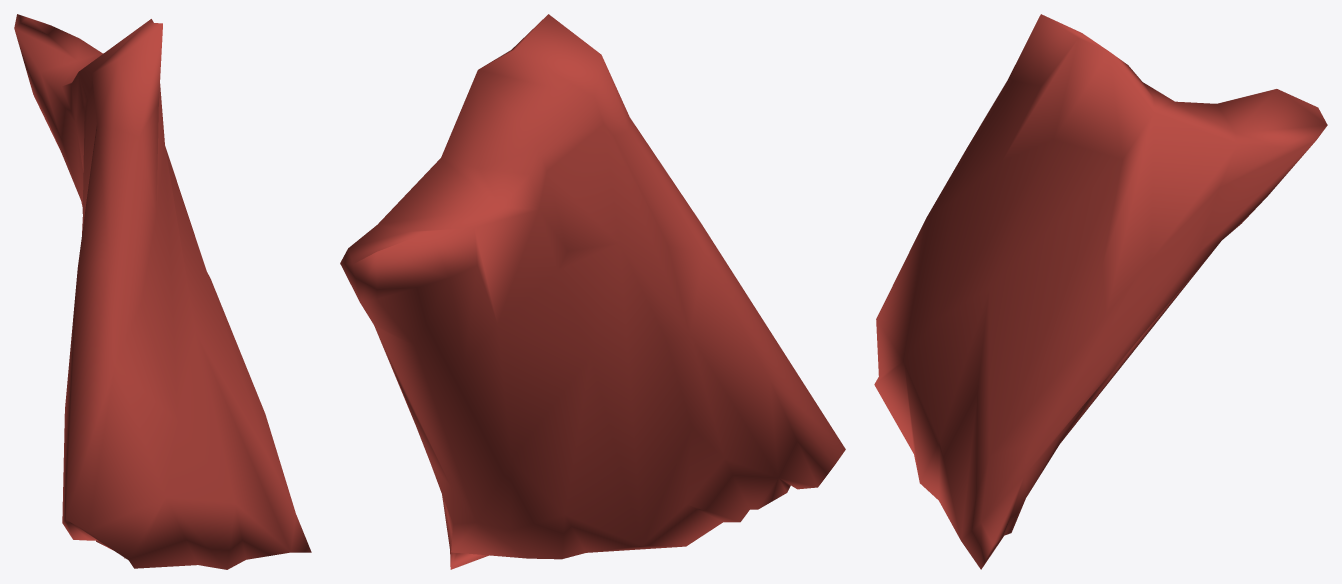
The model's file is musculos-rectus-lateralis-capitis-muscle-l.glb.
3 renders of one model, left to right at view 1: azimuth 30°, elevation 25°; view 2: azimuth 150°, elevation 25°; view 3: azimuth 270°, elevation 25°, orthographic. The views are drawn at different scales.
Parts seen in each view (by area): view 1: Rectus lateralis capitis muscle.l; view 2: Rectus lateralis capitis muscle.l; view 3: Rectus lateralis capitis muscle.l.
Part boxes in pixels (left/top/right/bottom): Rectus lateralis capitis muscle.l: left=14, top=14, right=311, bottom=569; Rectus lateralis capitis muscle.l: left=340, top=14, right=845, bottom=569; Rectus lateralis capitis muscle.l: left=874, top=14, right=1327, bottom=569.
Size of the model in its own units: 0.0123 by 0.0213 by 0.0174.
